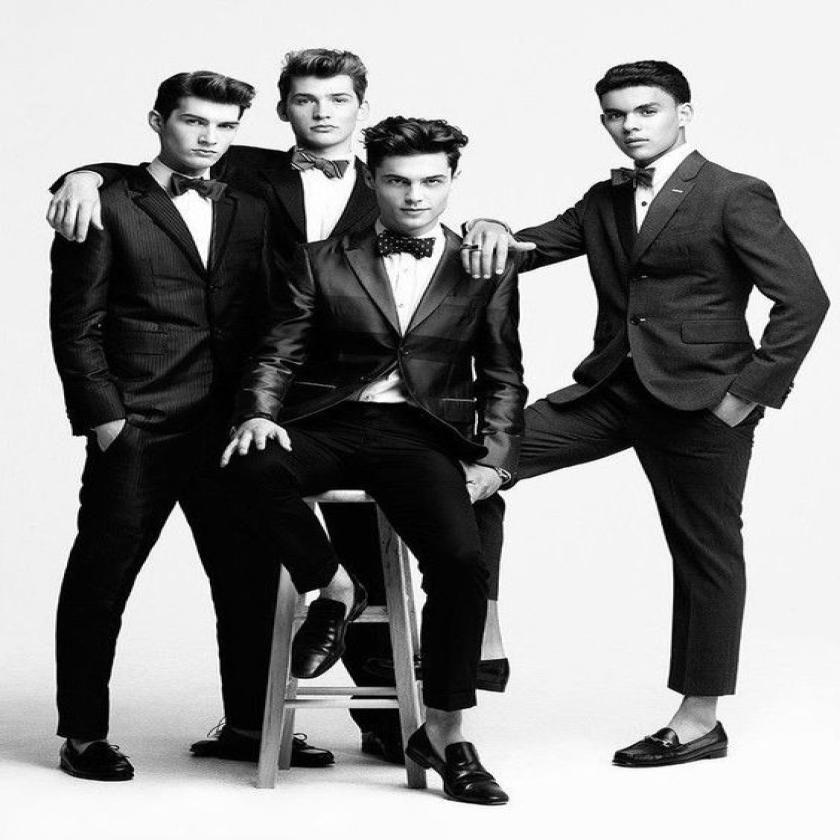Sin_casco: (144, 67, 258, 186), (362, 117, 468, 242), (589, 60, 698, 165), (271, 50, 374, 161)
